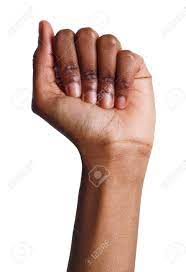closed: (30, 20, 158, 146)
